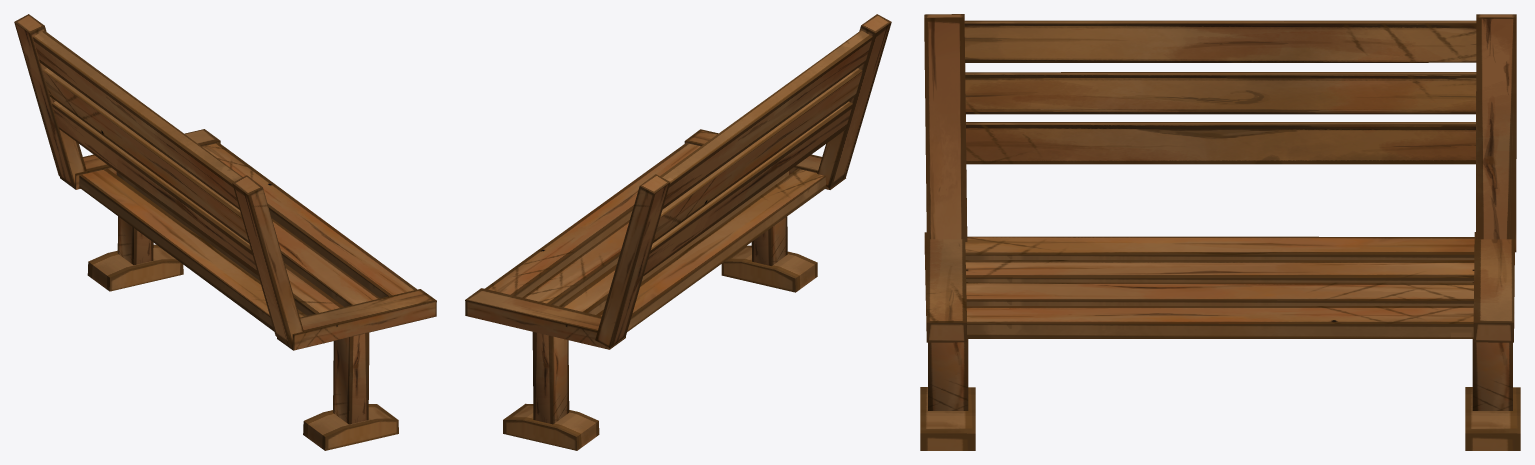
File: Bench.glb
3 renders of one model, left to right at view 1: azimuth 30°, elevation 25°; view 2: azimuth 150°, elevation 25°; view 3: azimuth 270°, elevation 25°, orthographic. The views are drawn at different scales.
Visible parts, largest first — view 1: Bench; view 2: Bench; view 3: Bench.
Part boxes in pixels (left/top/right/bottom): Bench: left=14, top=14, right=436, bottom=450; Bench: left=465, top=14, right=891, bottom=450; Bench: left=920, top=14, right=1520, bottom=450.
Bounding box in the file's own units: 0.2674 × 0.374 × 0.5794.
1 material, 1 textured.
